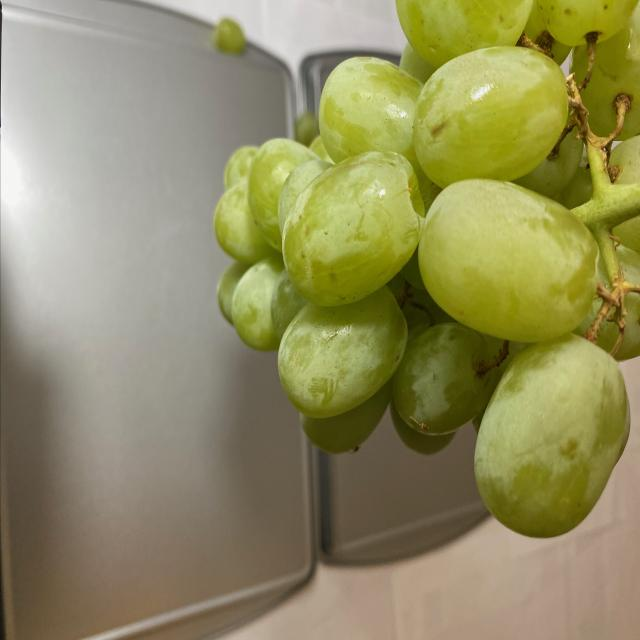grapes: (208, 0, 636, 544)
